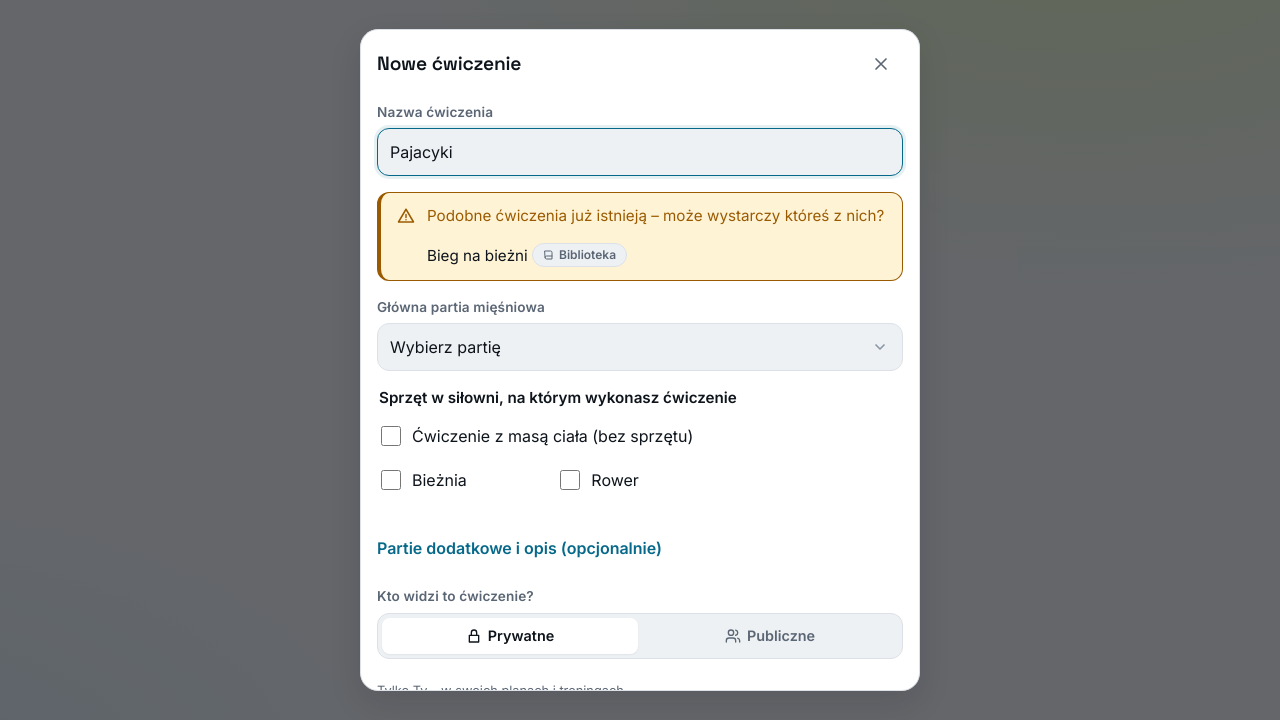
ExerciseFormSheet › requires equipment or bodyweight
Select "Cardio" in the dropdown labelled "Główna partia mięśniowa". click: (640, 347)
box: [377,323,903,371]
(page scrolled)
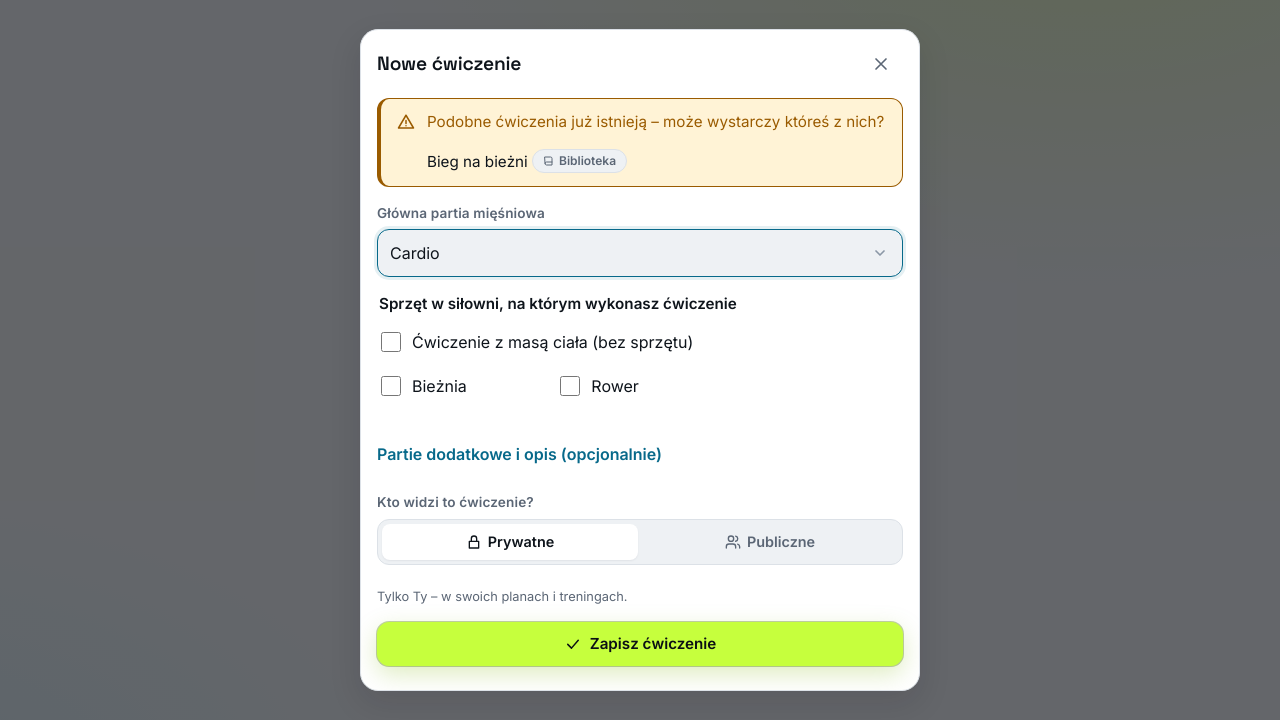
Click the button "Zapisz ćwiczenie". click: (640, 644)
box: [377,622,903,666]
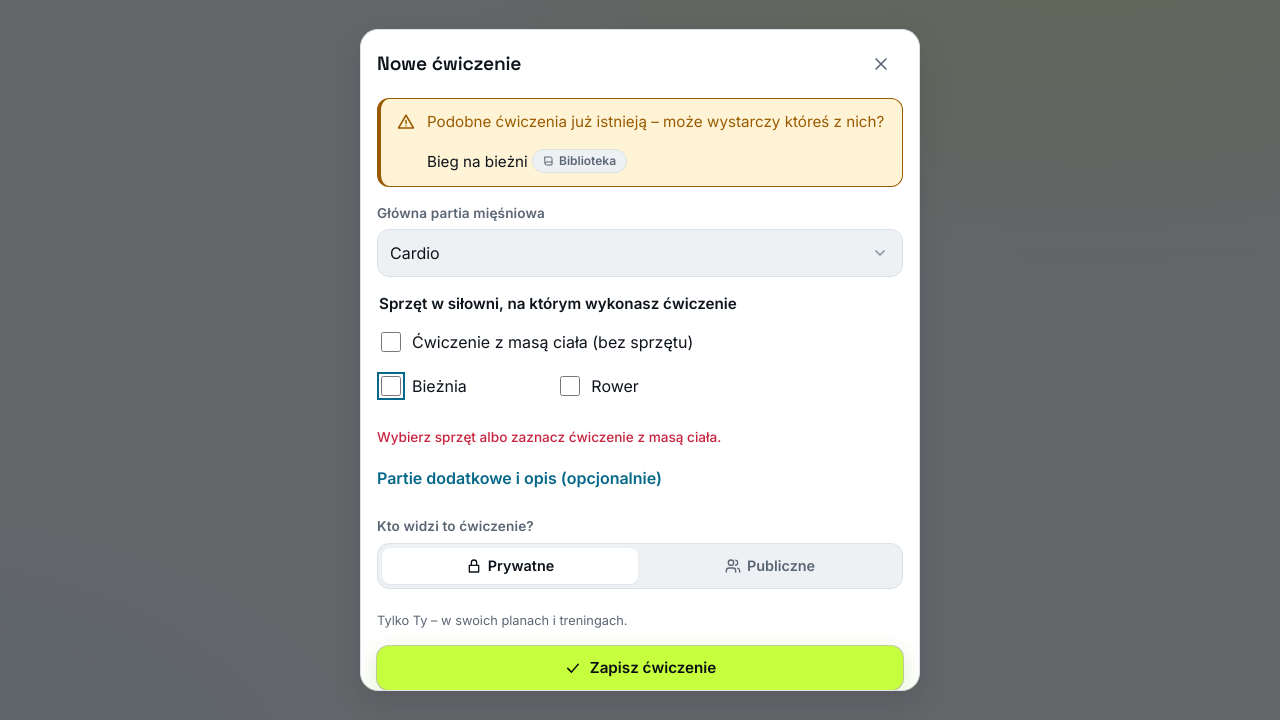
Now the text "Wybierz sprzęt albo zaznacz ćwiczenie z masą ciała." is shown, box [377,429,721,445]
